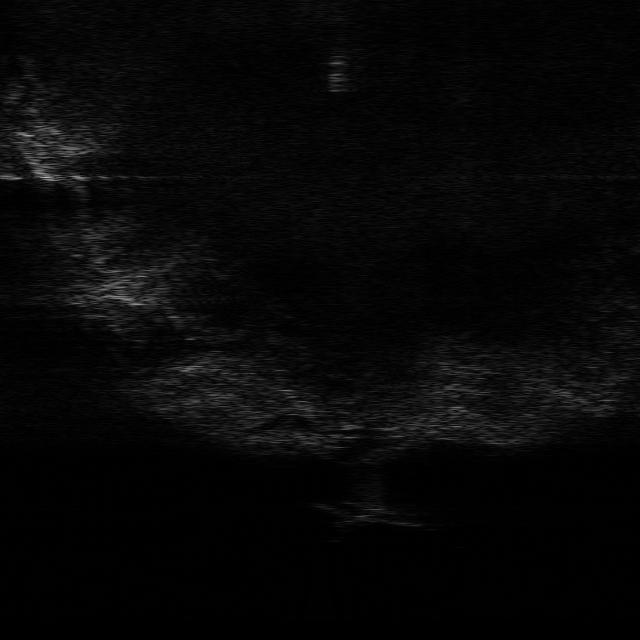plane: (310, 499, 422, 526)
